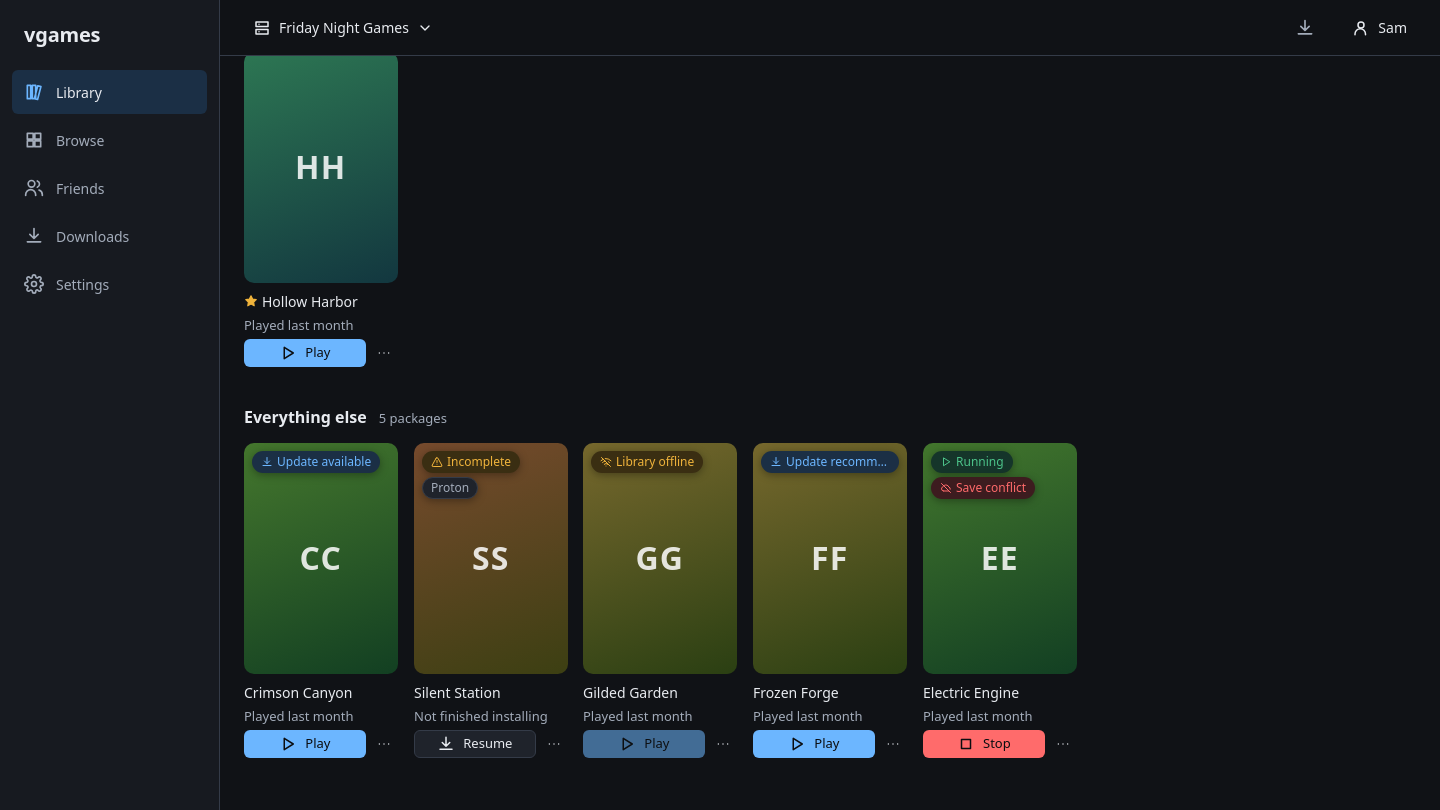
Test: library › an update over a withdrawn version asks first
(page scrolled)
Check: the element "Frozen Forge" is shown, box [753,443,907,758]
Click the button named "More actions for Frozen Forge".
click(893, 744)  # box [879,730,907,758]
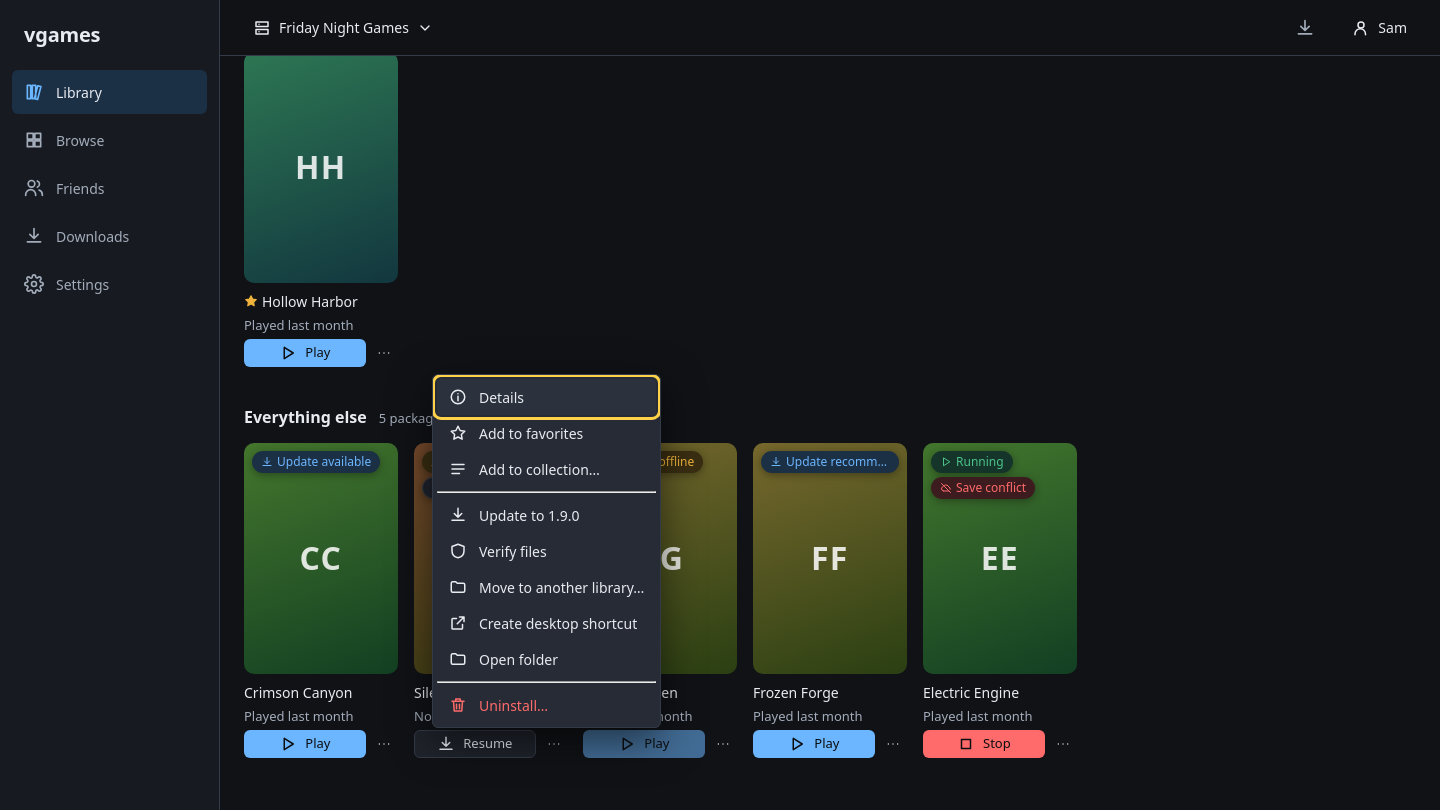
Click the menu item "Update to 1.9.0".
click(547, 515)  # box [437,497,656,533]
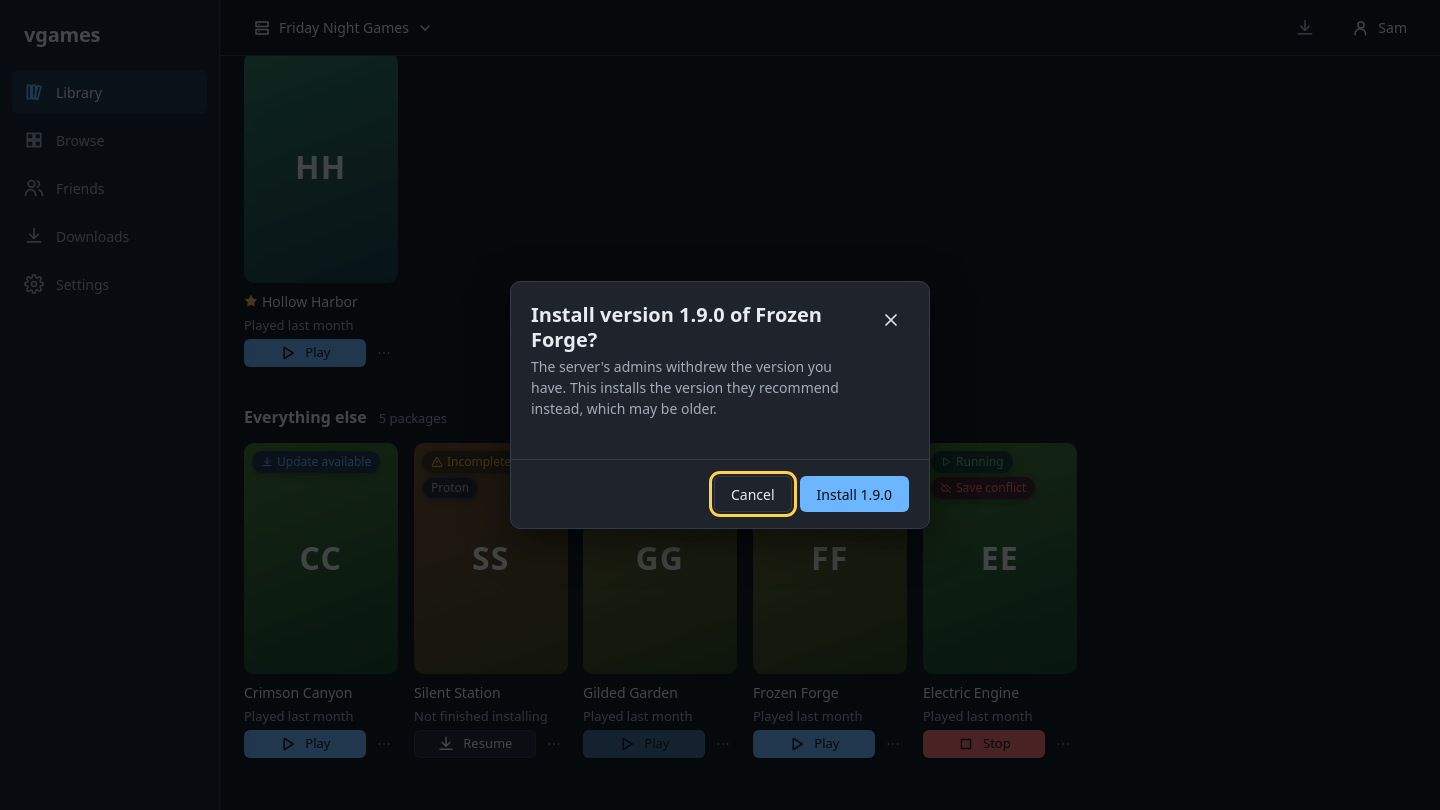
Click the button "Install 1.9.0".
click(854, 494)  # box [800,476,909,512]
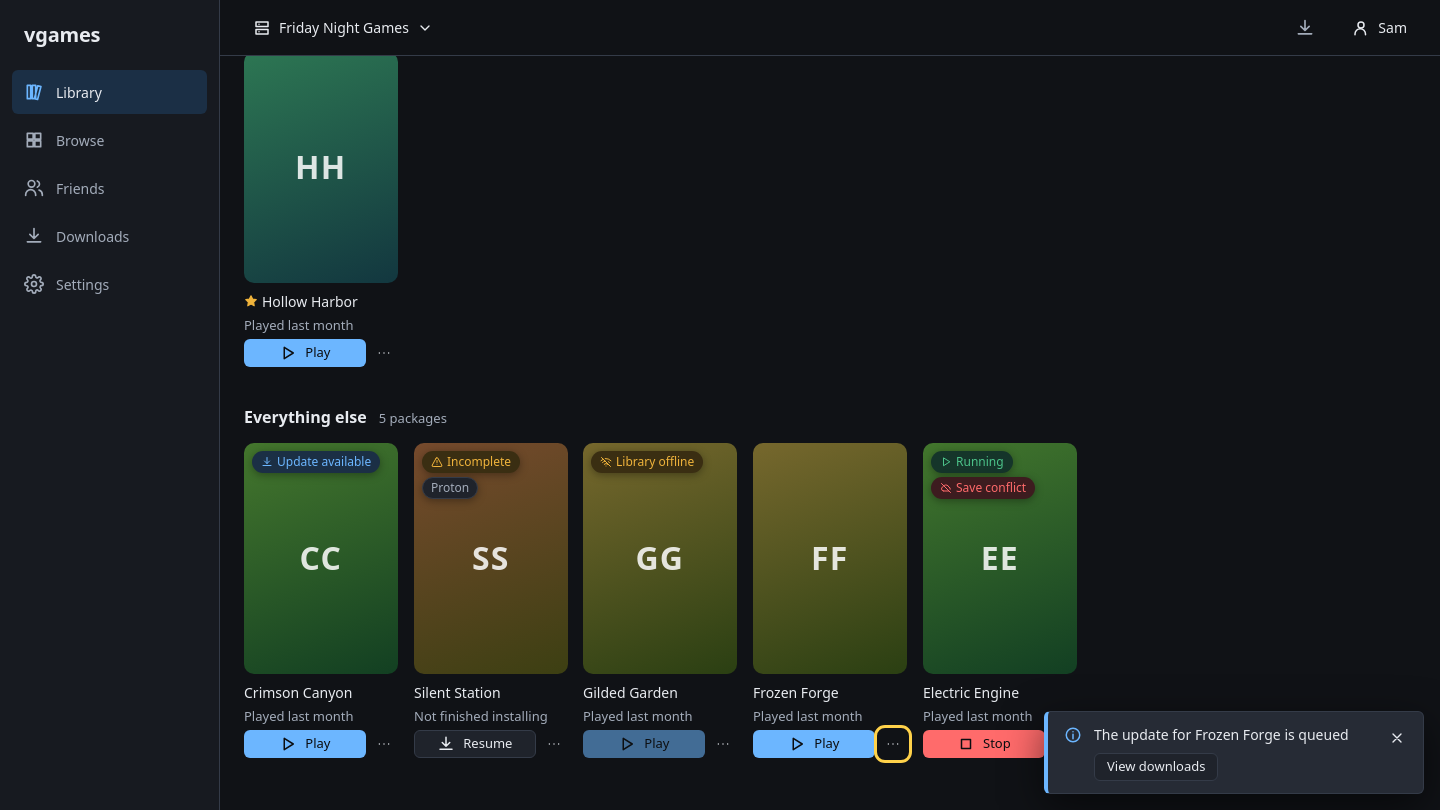
Check: the text "The update for Frozen Forge is queued" is shown, box [1094,724,1371,745]
